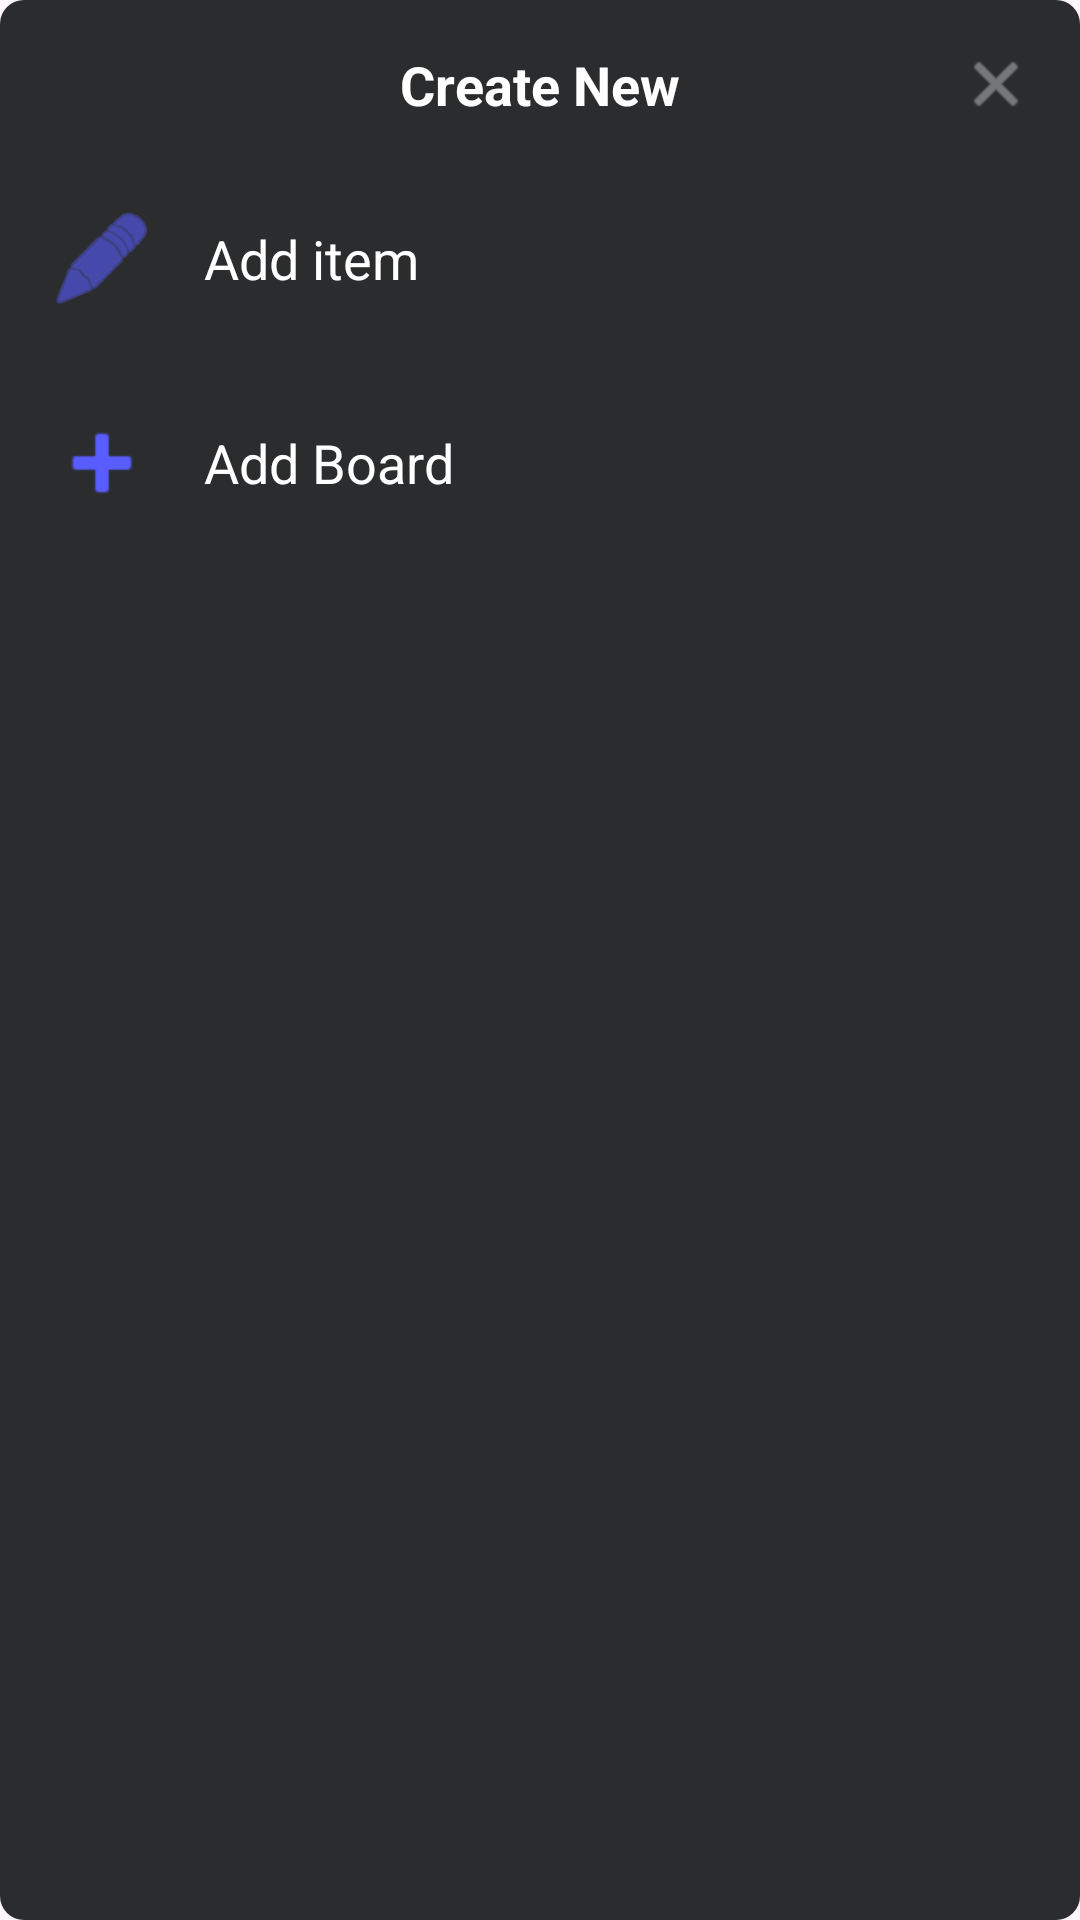

Where icons sit on this 1080*1920 app screen, as [x1,y1,x2,y2]:
close clear cancel: [974,62,1018,106]
edit: [56,213,147,304]
